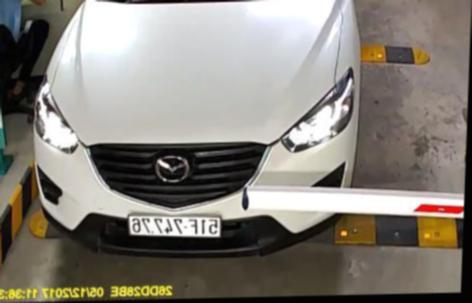License_Plate: (118, 210, 229, 243)
